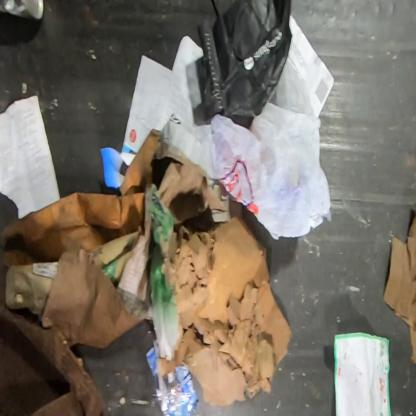cardboard: (157, 215, 292, 407), (0, 243, 105, 415), (382, 209, 415, 372), (157, 162, 227, 224), (5, 262, 58, 328), (87, 223, 144, 283), (154, 111, 209, 170)
soft_plastic: (206, 102, 333, 240), (145, 346, 200, 415)
